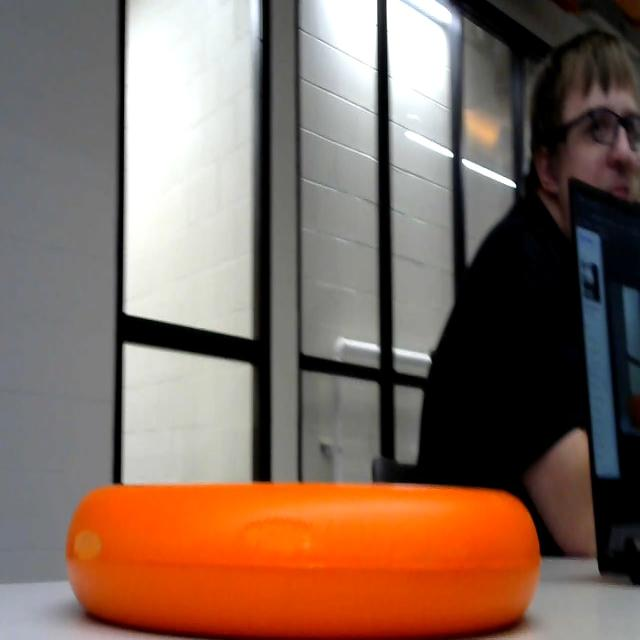note: (60, 472, 547, 640)
